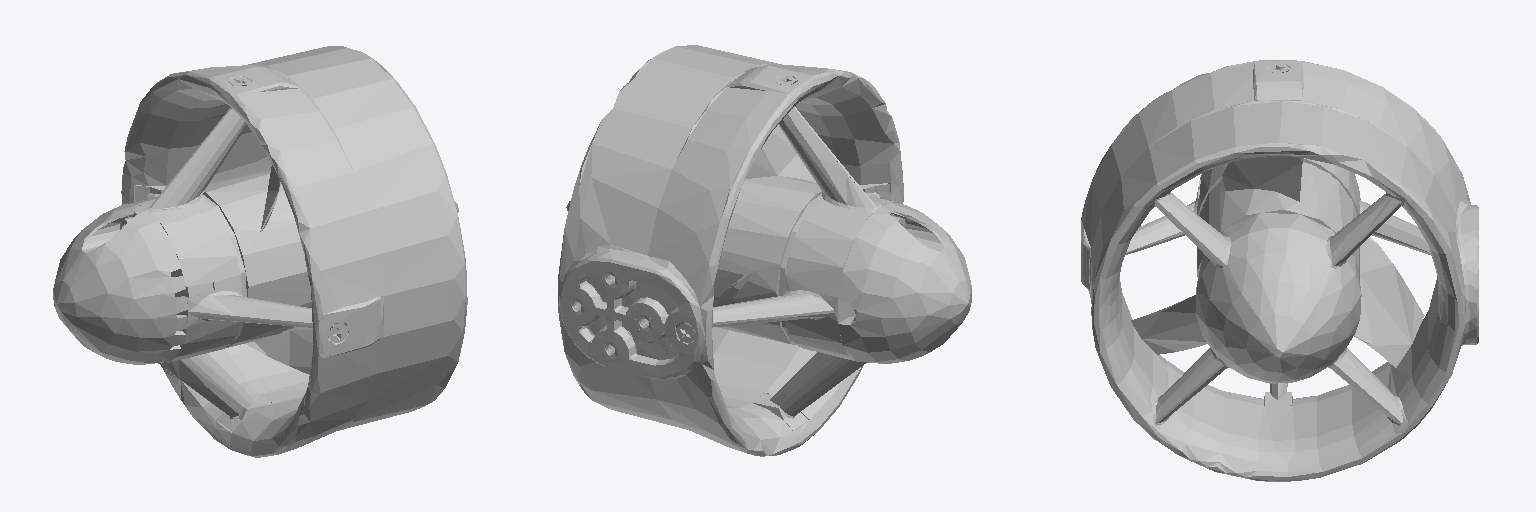
The model's file is thruster_brd.obj.
3 renders of one model, left to right at view 1: azimuth 30°, elevation 25°; view 2: azimuth 150°, elevation 25°; view 3: azimuth 270°, elevation 25°, orthographic.
Bounding box in the file's own units: 0.1127 × 0.0966 × 0.0973.